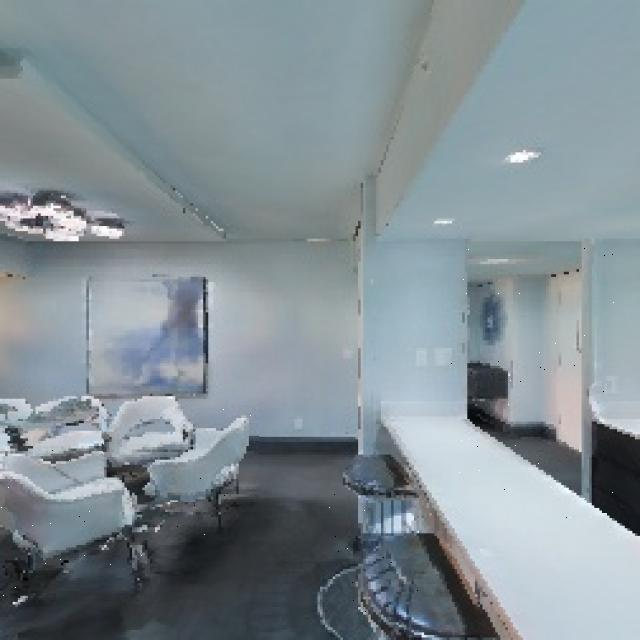chair: (0, 422, 145, 600), (138, 406, 259, 552), (324, 448, 424, 620), (103, 387, 195, 502)
door-frame: (446, 235, 615, 522)
